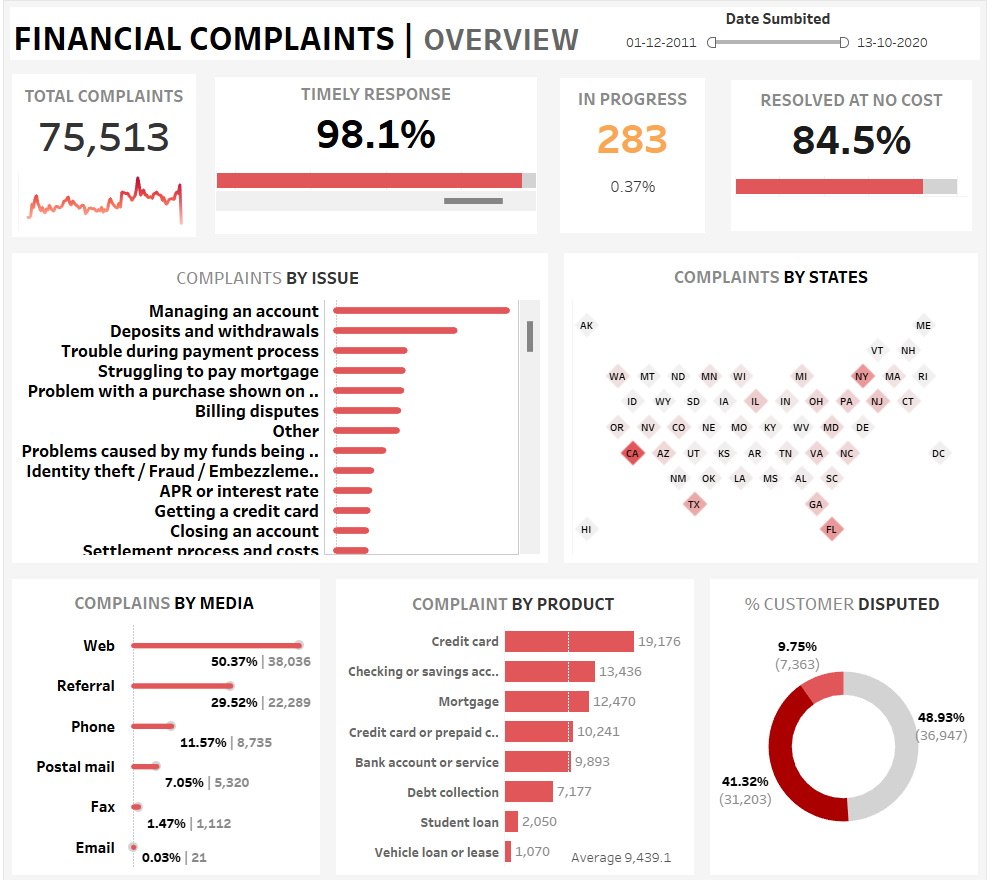

The page's visual inventory and layout, read from the dashboard file:
{"tool":"tableau","page":{"name":"Fc overview","canvas":[1000,900],"ordinal":0},"visuals":[{"type":"text","box":[9,9,982,64.8]},{"type":"filter","title":"Sheet 8","param":"[federated.0ox3ndp0gzz5mh155ex500k87oih].[none:Date Sumbited:qk]","box":[625,15.7,316,56.2]},{"type":"worksheet","title":"TOTAL COMPLAINTS","mark":"Automatic","rows":["Financial Consumer Complaints.csv_2A0DD6235A5B4AB38E34AC6DEE"],"cols":["Date Sumbited"],"box":[9,73.8,200,178.8]},{"type":"worksheet","title":"TIMELY RESPONSE","mark":"Bar","box":[209,73.8,344,178.8]},{"type":"worksheet","title":"IN PROGRESS","mark":"Automatic","box":[553,73.8,169,178.8]},{"type":"worksheet","title":"RESOLVED AT NO COST","mark":"Bar","box":[722,73.8,269,178.8]},{"type":"worksheet","title":"Sheet 8","mark":"Line","rows":["Issue"],"cols":["Financial Consumer Complaints.csv_2A0DD6235A5B4AB38E34AC6DEE"],"box":[9,252.6,552,326.4]},{"type":"worksheet","title":"Sheet 9","mark":"Automatic","rows":["Row"],"cols":["Column"],"box":[561,252.6,430,326.4]},{"type":"worksheet","title":"COMPLAINS BY MEDIA","mark":"Automatic","rows":["Submitted via"],"cols":["Financial Consumer Complaints.csv_2A0DD6235A5B4AB38E34AC6DEE"],"box":[9,579,324,312]},{"type":"worksheet","title":"comp by product","mark":"Automatic","rows":["Product"],"cols":["Financial Consumer Complaints.csv_2A0DD6235A5B4AB38E34AC6DEE"],"box":[333,579,374,312]},{"type":"worksheet","title":"% CCustomer disputed","mark":"Pie","rows":["Calculation_788411477687533579","Calculation_788411477687554061"],"box":[707,579,284,312]}]}

Visuals, with their boxes in screenshot pixels (x1, y1, x2, y2), scaled from the page's 1000x900 canvas onto the 994x880 screenshot:
text: [x1=9, y1=9, x2=985, y2=72]
"Sheet 8" filter: [x1=621, y1=15, x2=935, y2=70]
"TOTAL COMPLAINTS" worksheet: [x1=9, y1=72, x2=208, y2=247]
"TIMELY RESPONSE" worksheet (Bar marks): [x1=208, y1=72, x2=550, y2=247]
"IN PROGRESS" worksheet: [x1=550, y1=72, x2=718, y2=247]
"RESOLVED AT NO COST" worksheet (Bar marks): [x1=718, y1=72, x2=985, y2=247]
"Sheet 8" worksheet (Line marks): [x1=9, y1=247, x2=558, y2=566]
"Sheet 9" worksheet: [x1=558, y1=247, x2=985, y2=566]
"COMPLAINS BY MEDIA" worksheet: [x1=9, y1=566, x2=331, y2=871]
"comp by product" worksheet: [x1=331, y1=566, x2=703, y2=871]
"% CCustomer disputed" worksheet (Pie marks): [x1=703, y1=566, x2=985, y2=871]
